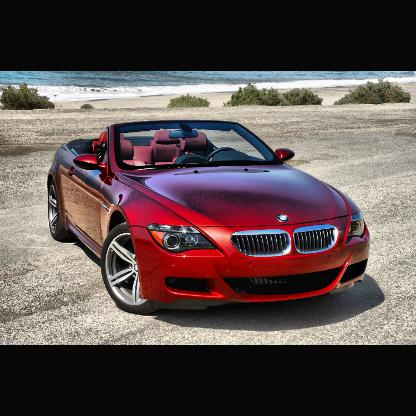BMW M6 Convertible 2010: (48, 119, 373, 316)
